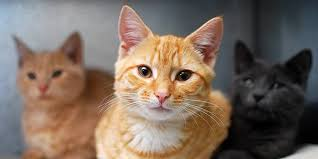Gato: (109, 3, 221, 129), (8, 26, 99, 108), (232, 37, 315, 120)
